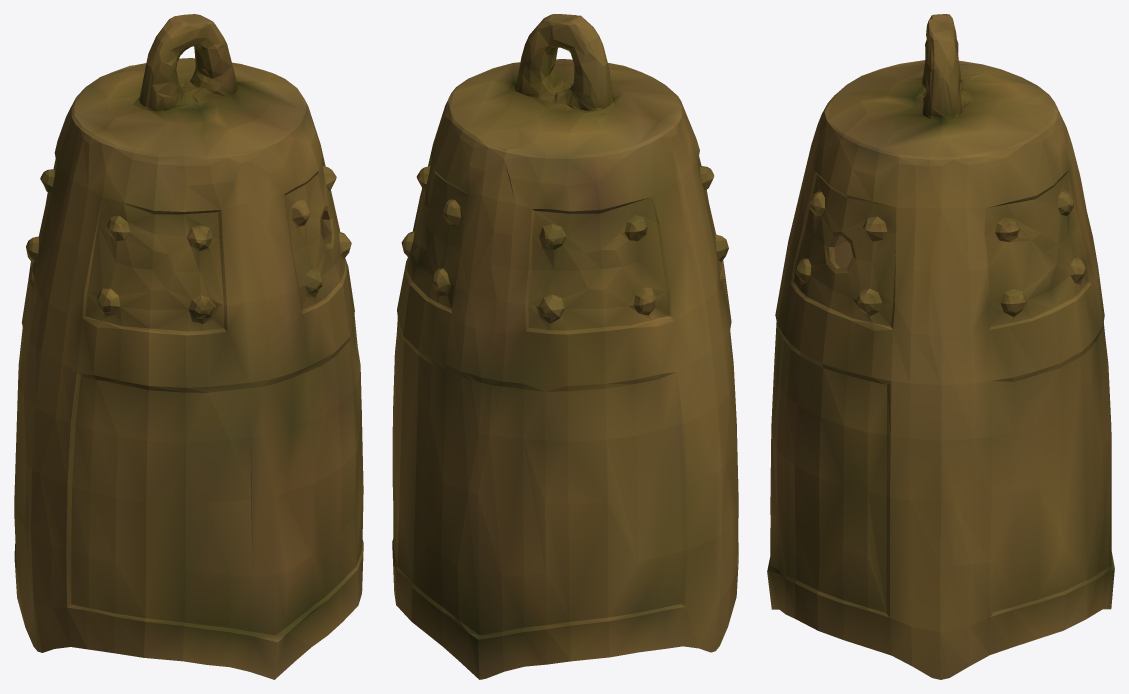
File: small_bell_2c93e5a1.glb
3 views of the same model, side by side, from view 1: azimuth 30°, elevation 25°; view 2: azimuth 150°, elevation 25°; view 3: azimuth 270°, elevation 25° (orthographic).
Parts seen in each view (by area): view 1: SM_24HO0035_low_SM_24HO0035_low_0; view 2: SM_24HO0035_low_SM_24HO0035_low_0; view 3: SM_24HO0035_low_SM_24HO0035_low_0.
Boxes of the visible parts, x1=… form: SM_24HO0035_low_SM_24HO0035_low_0: x1=14, y1=14, x2=363, y2=679; SM_24HO0035_low_SM_24HO0035_low_0: x1=392, y1=14, x2=738, y2=679; SM_24HO0035_low_SM_24HO0035_low_0: x1=767, y1=14, x2=1114, y2=679.
Bounding box in the file's own units: 0.0804 × 0.1473 × 0.0787.
